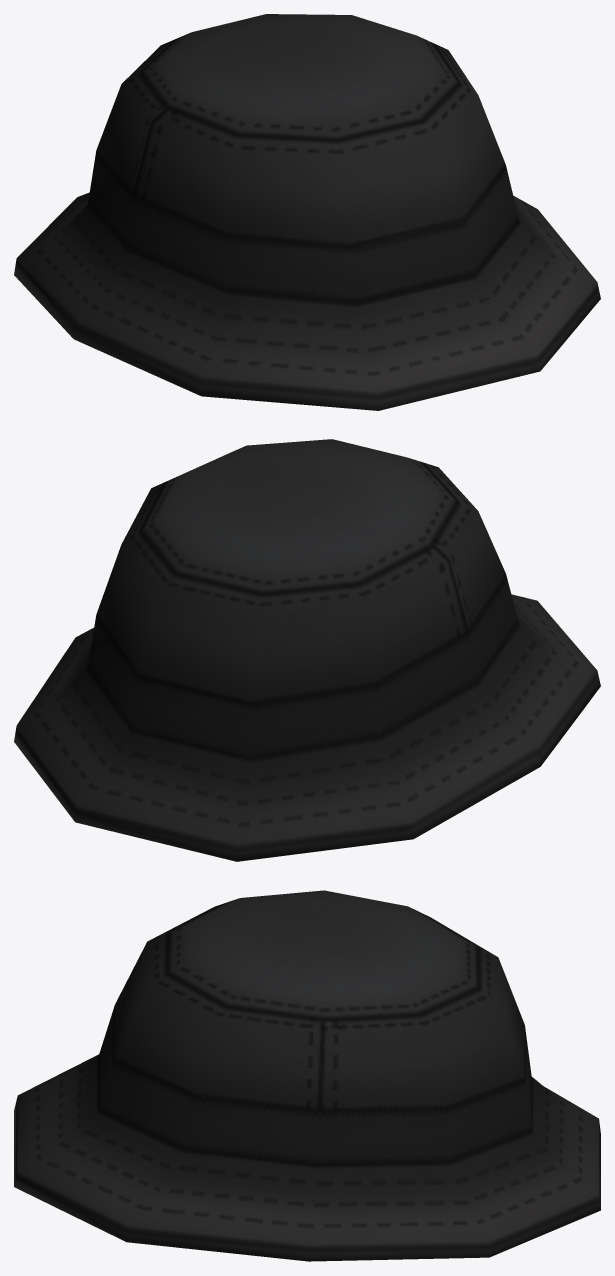
The model's file is sunhat.glb.
The picture shows the model from 3 angles, top to bottom: view 1: azimuth 30°, elevation 25°; view 2: azimuth 150°, elevation 25°; view 3: azimuth 270°, elevation 25°; orthographic projection. The views are drawn at different scales.
Visible parts, largest first — view 1: sunhat; view 2: sunhat; view 3: sunhat.
Boxes of the visible parts, x1,y1,x2,y2 form: sunhat: (14,14,600,410); sunhat: (14,439,600,861); sunhat: (14,890,600,1261).
Size of what is drawn, in the model's own units: 0.8722 by 0.4404 by 0.9813.
Materials: 1 (1 with a texture image).
